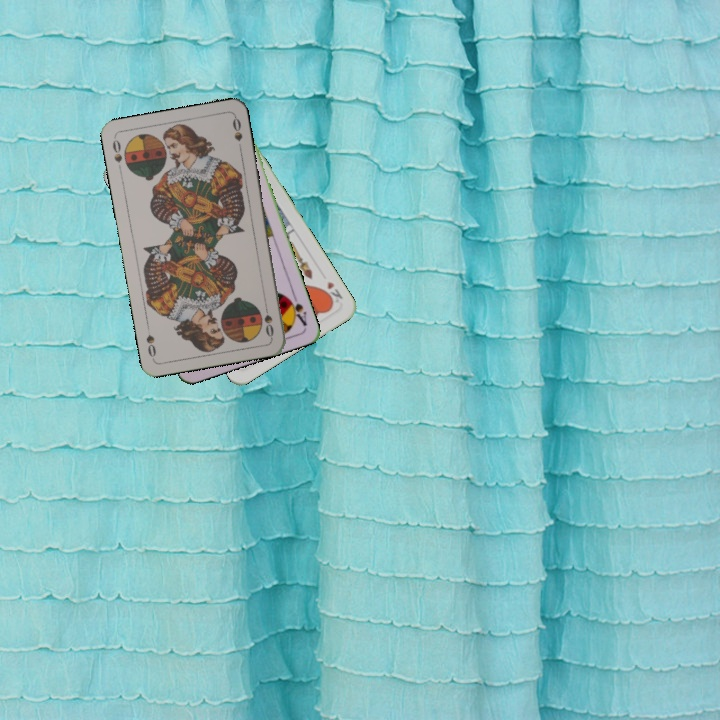HK: (319, 277, 345, 307)
SA: (283, 289, 310, 328)
SO: (260, 299, 276, 340), (108, 136, 125, 165)
